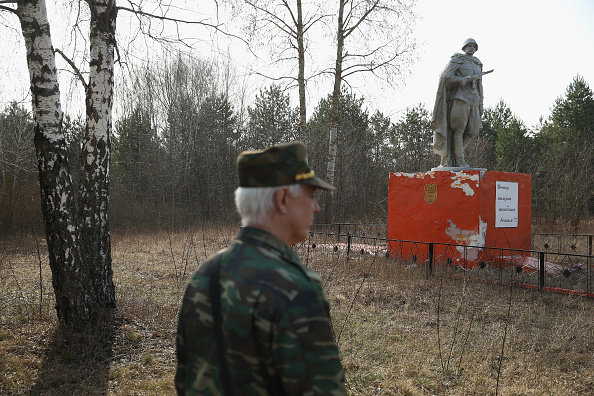em pe: (178, 141, 357, 396)
